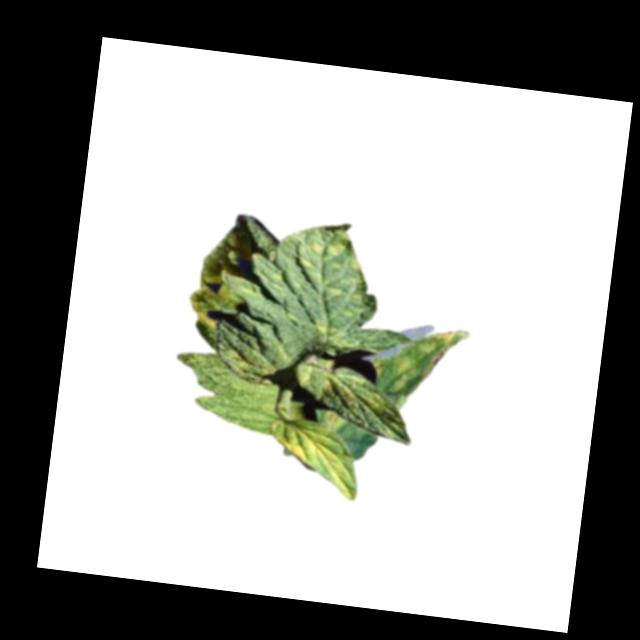Leaf_Mold: (364, 318, 474, 418), (266, 416, 366, 501), (294, 364, 384, 415), (291, 218, 367, 277), (186, 270, 237, 332)
